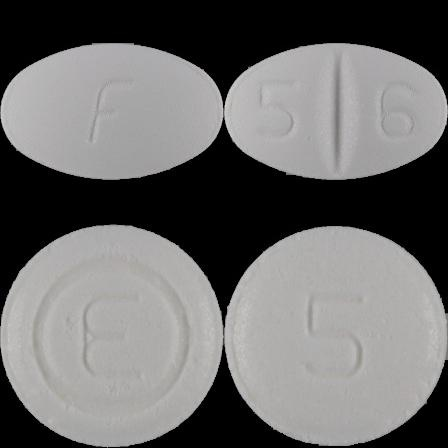65862-375: (0, 0, 224, 224)
